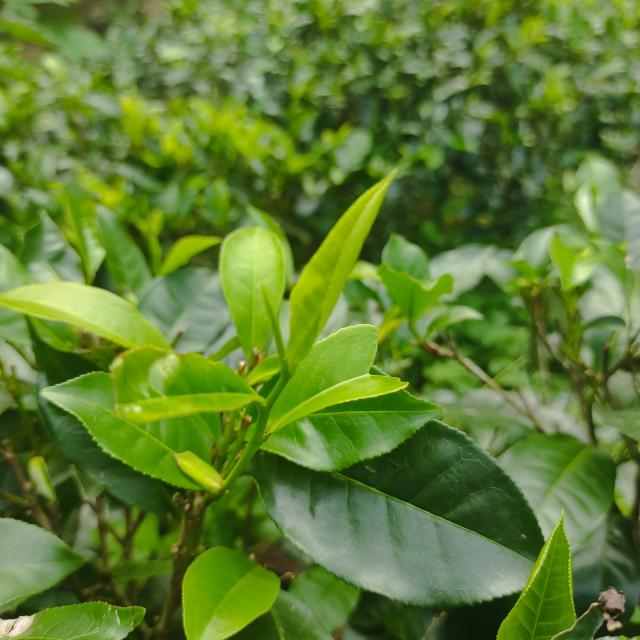unopened_leaf: (256, 277, 302, 381)
